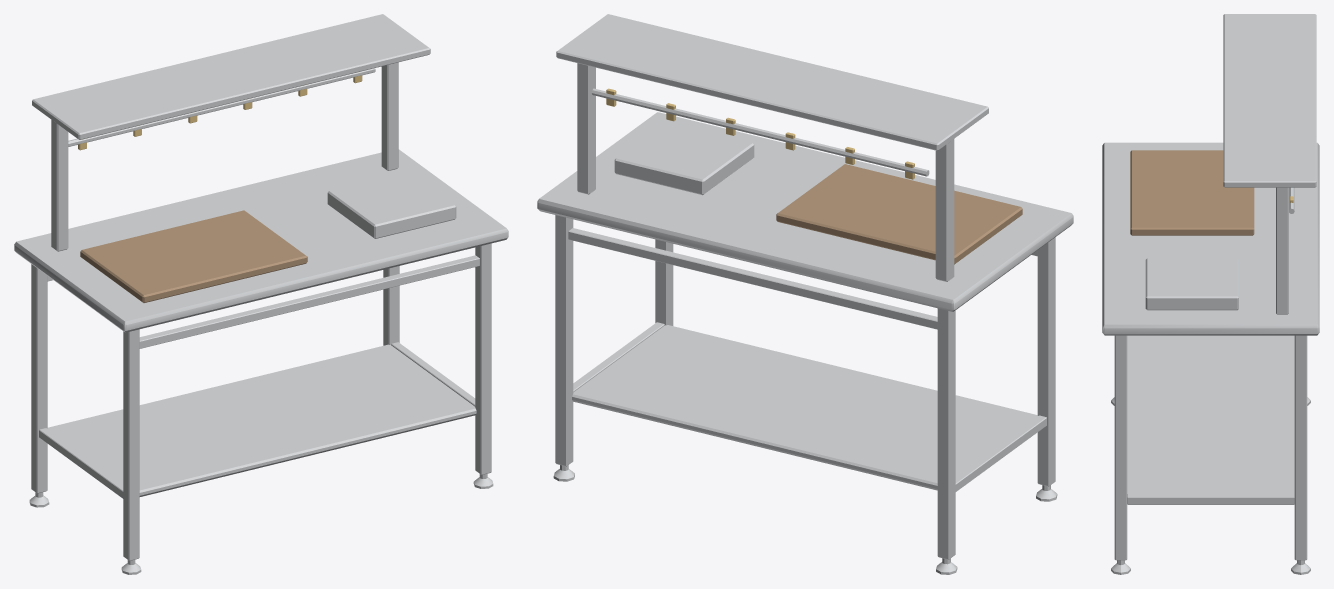
File: restaurant-kitchen-and-dining-expediting-bench-1432517e__16484.glb
3 views of the same model, side by side, from view 1: azimuth 30°, elevation 25°; view 2: azimuth 150°, elevation 25°; view 3: azimuth 270°, elevation 25° (orthographic). The views are drawn at different scales.
Parts seen in each view (by area): view 1: expediting-bench; view 2: expediting-bench; view 3: expediting-bench.
Boxes of the visible parts, x1,y1,x2,y2 form: expediting-bench: (14, 14, 508, 574); expediting-bench: (537, 14, 1073, 574); expediting-bench: (1102, 14, 1319, 574).
Bounding box in the file's own units: 1.4 × 1.38 × 0.7001.
